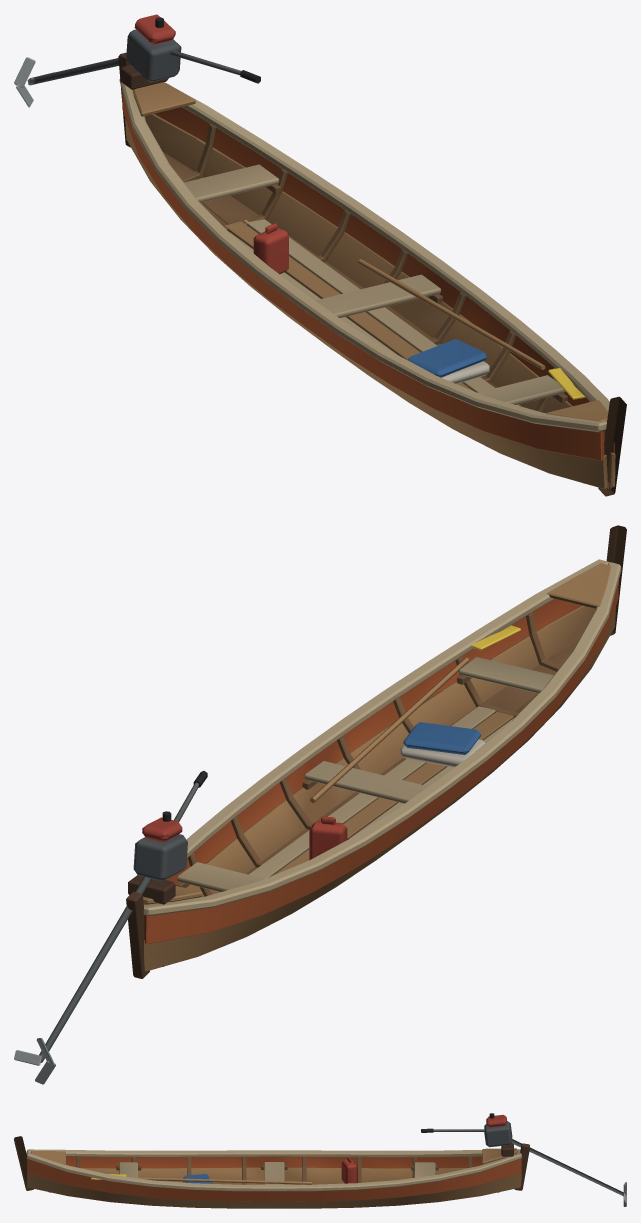
Rendered from motor_canoe.glb.
The picture shows the model from 3 angles, top to bottom: view 1: azimuth 30°, elevation 25°; view 2: azimuth 150°, elevation 25°; view 3: azimuth 270°, elevation 25°; orthographic projection. The views are drawn at different scales.
Parts seen in each view (by area): view 1: motor_canoe; view 2: motor_canoe; view 3: motor_canoe.
Part boxes in pixels (x1,y1,x2,y2): motor_canoe: [14, 14, 626, 496]; motor_canoe: [14, 525, 626, 1084]; motor_canoe: [14, 1113, 626, 1208].
Bounding box in the file's own units: 1.14 × 1.32 × 7.82.
